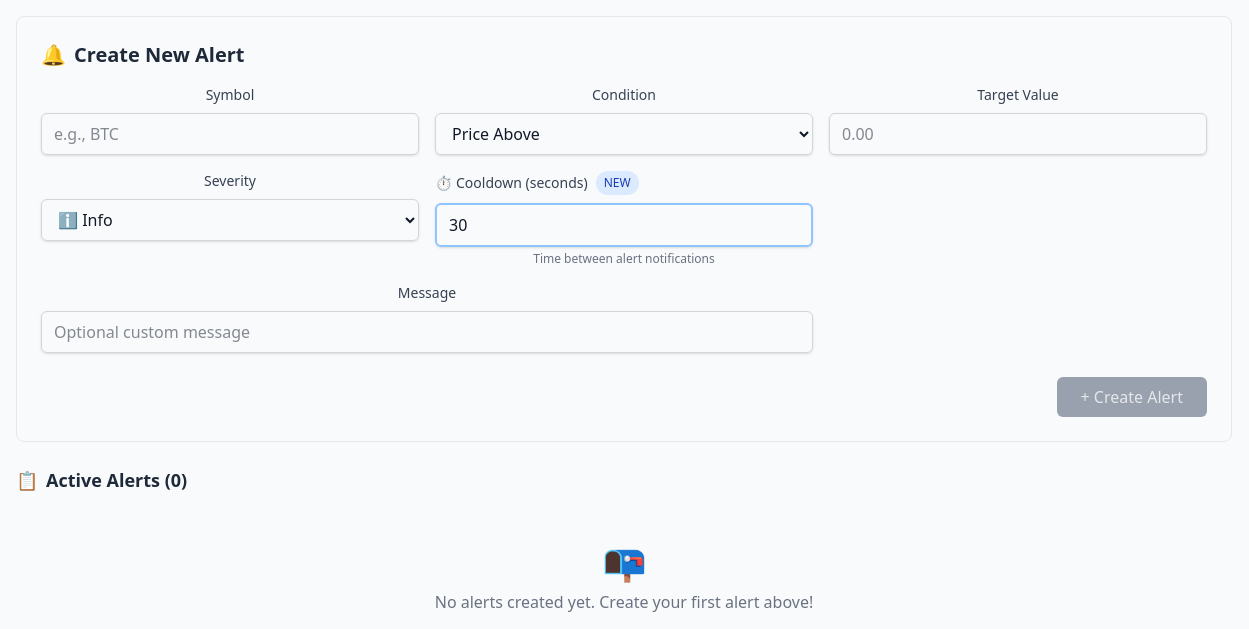
Test: AlertManager › disables create button when required fields are empty
This screenshot has width=1249, height=629.
expect the button "+ Create Alert" is disabled: met, box [1057,377,1207,417]
Type "BTC" into the field named "symbol" at [230, 134], box [41,113,419,155]
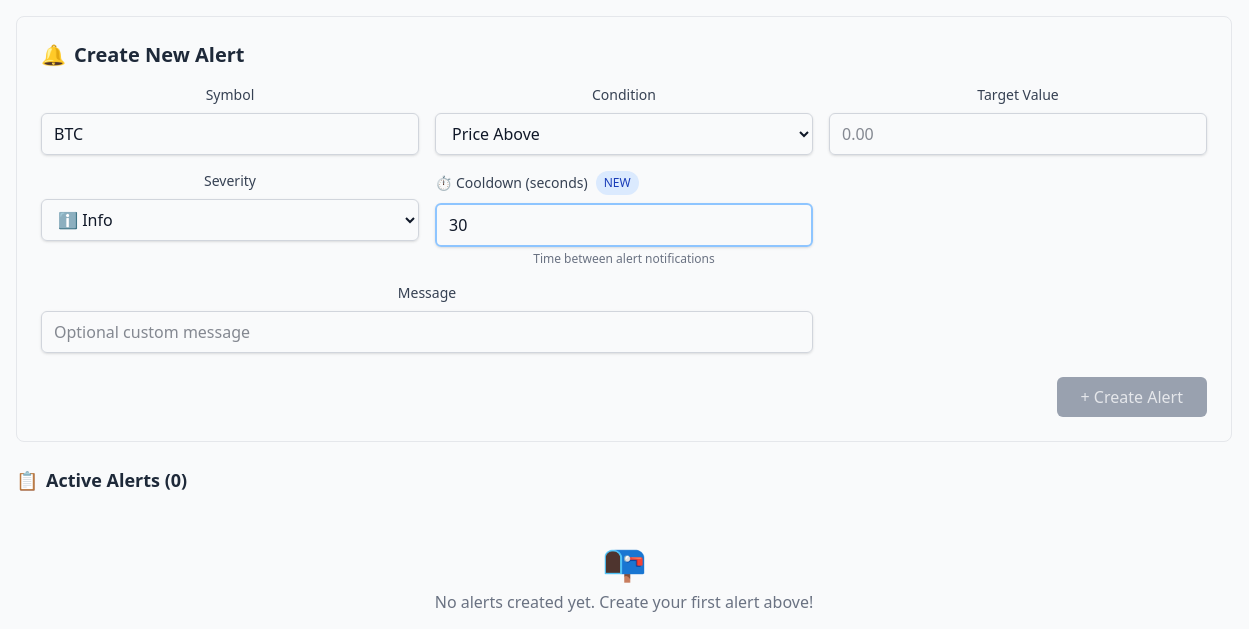
Type "45000" into the number field named "target value" at [1018, 134], box [829,113,1207,155]
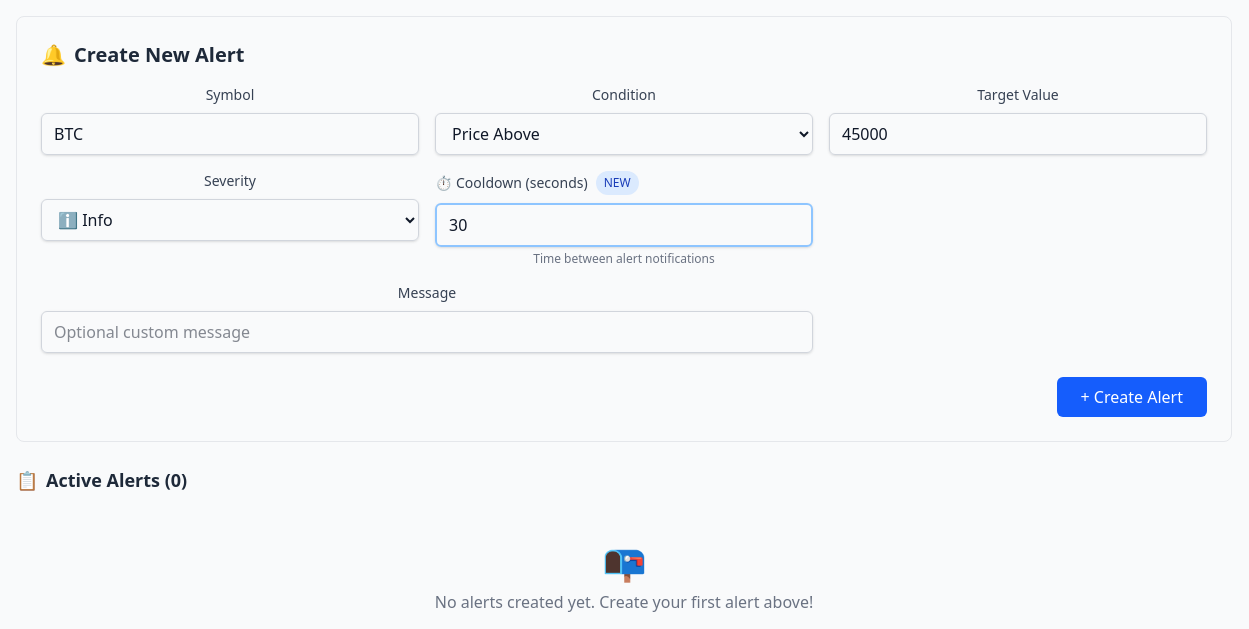
expect the button "+ Create Alert" is enabled: met, box [1057,377,1207,417]
